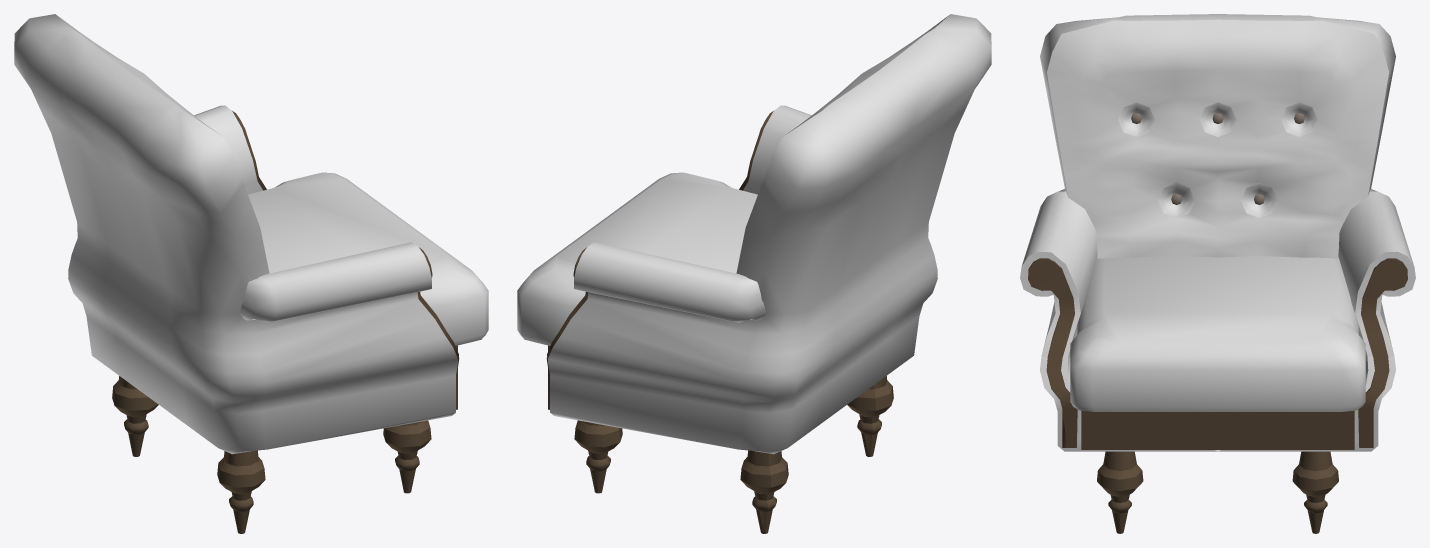
File: SM_Armchair_01.glb
3 views of the same model, side by side, from view 1: azimuth 30°, elevation 25°; view 2: azimuth 150°, elevation 25°; view 3: azimuth 270°, elevation 25° (orthographic). The views are drawn at different scales.
Parts seen in each view (by area): view 1: SM_Armchair_01; view 2: SM_Armchair_01; view 3: SM_Armchair_01.
Boxes of the visible parts, left/top/right/bottom form: SM_Armchair_01: left=14, top=14, right=488, bottom=533; SM_Armchair_01: left=517, top=14, right=991, bottom=533; SM_Armchair_01: left=1020, top=14, right=1415, bottom=533.
Bounding box in the file's own units: 0.8458 × 1.08 × 0.951.
1 material, 1 textured.
